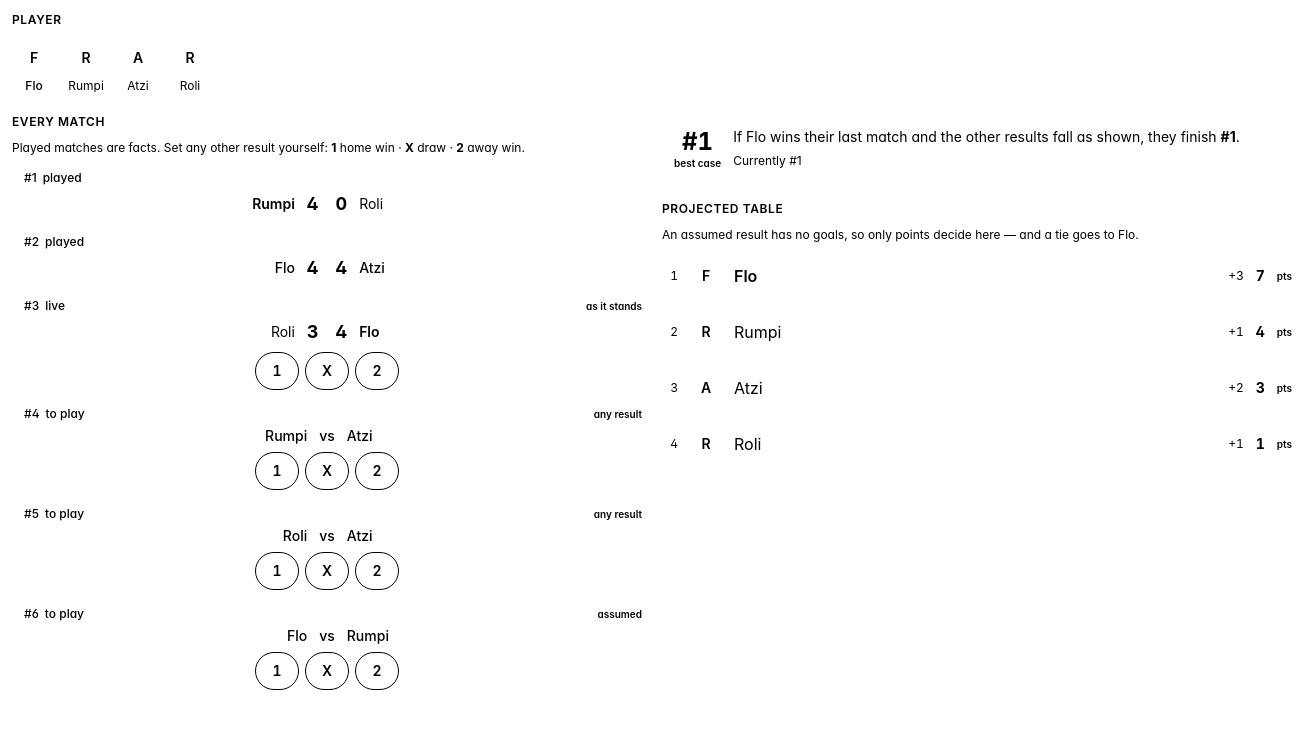
it: What if tab › projects the picked player, reacts to an edit and resets back to the best case
The image size is (1304, 732).
Click the button titled "Roli" at (190, 65), box [168,36,212,94]
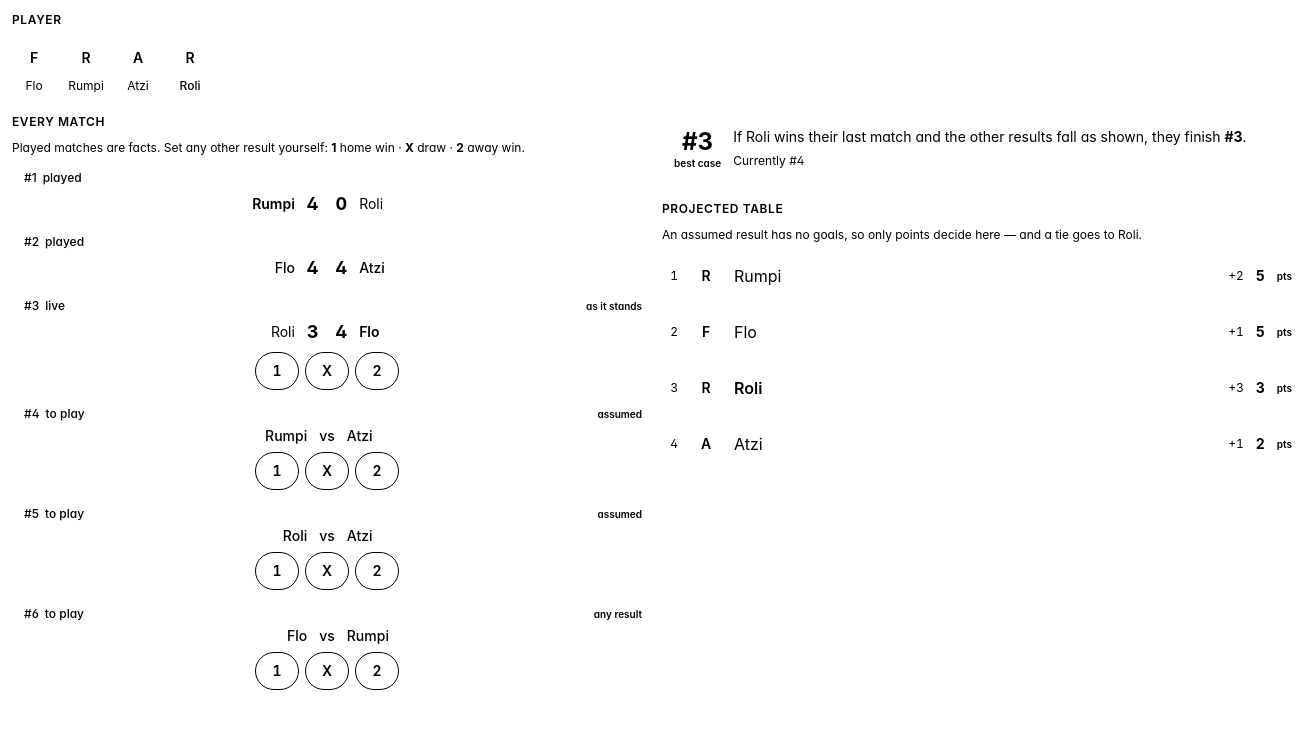
Now the text "they finish" shows "Roli wins their last match", box [746,128,912,145]
Now the text "they finish" shows "they finish #3", box [733,126,1280,149]
Now the text "Currently #4" is shown, box [733,153,805,168]
Click the button named "Atzi win" at (377, 470), box [355,452,399,490]
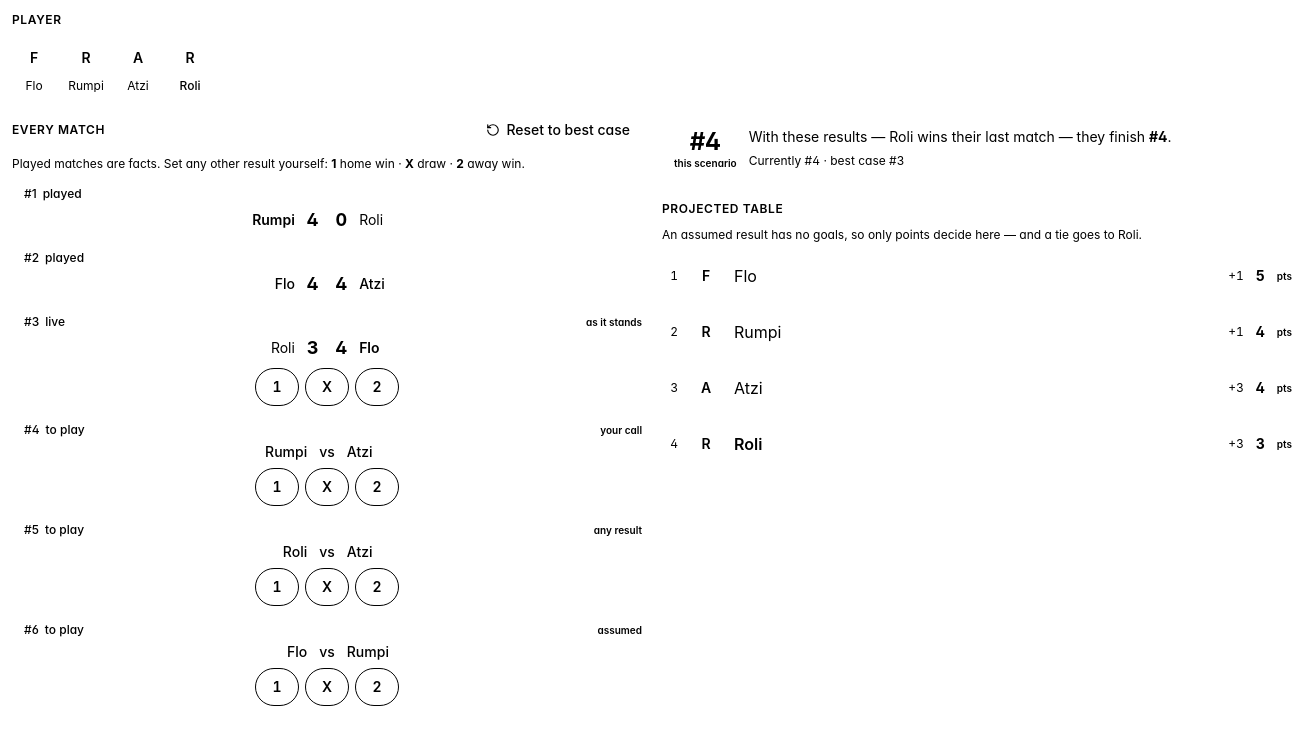
Now the text "they finish" shows "they finish #4", box [749,128,1172,145]
Now the text "your call" is shown, box [600,424,642,434]
Now the text "Currently #4 · best case #3" is shown, box [749,153,904,168]
Click the button "Reset to best case" at (558, 130), box [474,114,642,146]
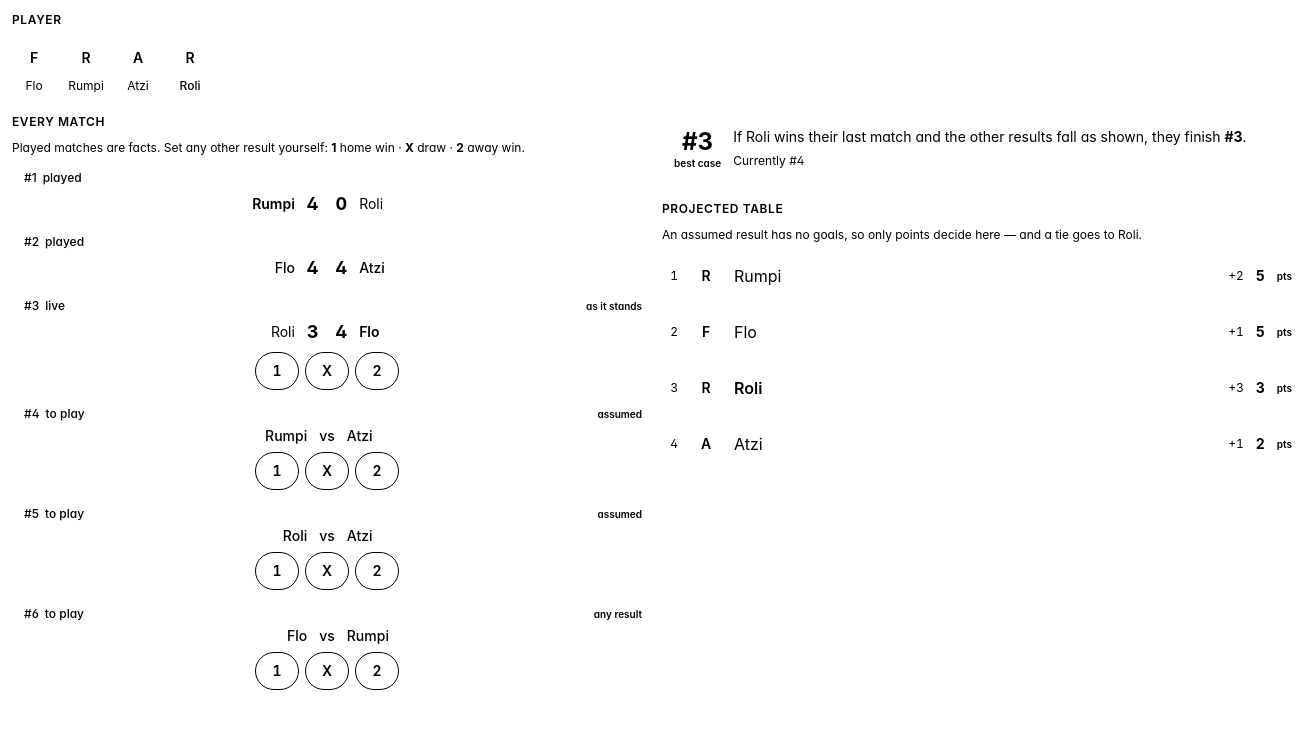
Now the text "they finish" shows "they finish #3", box [733,126,1280,149]
Now the text "your call" is gone
